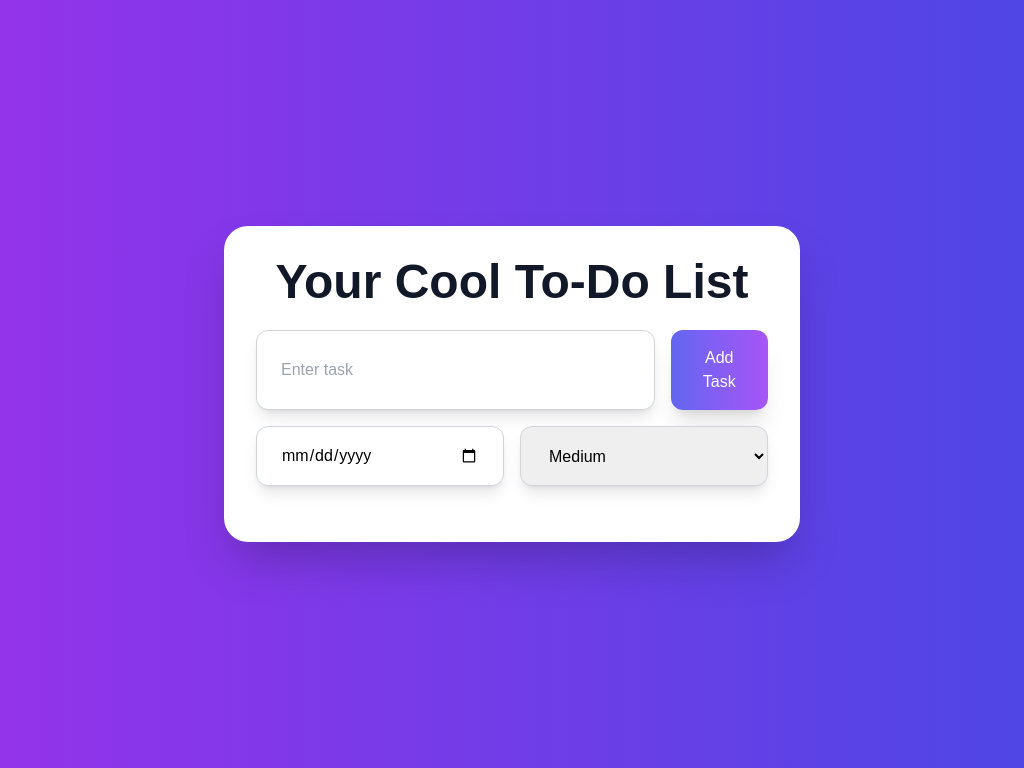
To-Do App › deletes a task
Type "Delete Me" into the field with placeholder "Enter task". click: (456, 370)
box: [256, 330, 655, 410]
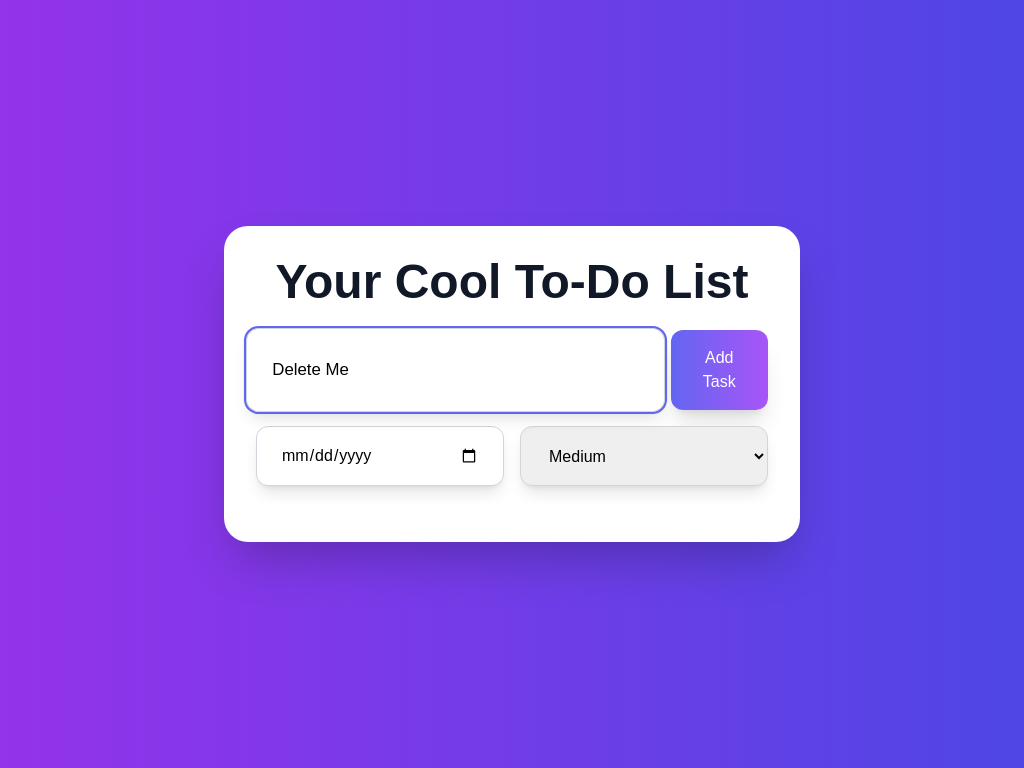
Click the button "Add Task". click: (720, 370)
box: [671, 330, 768, 410]
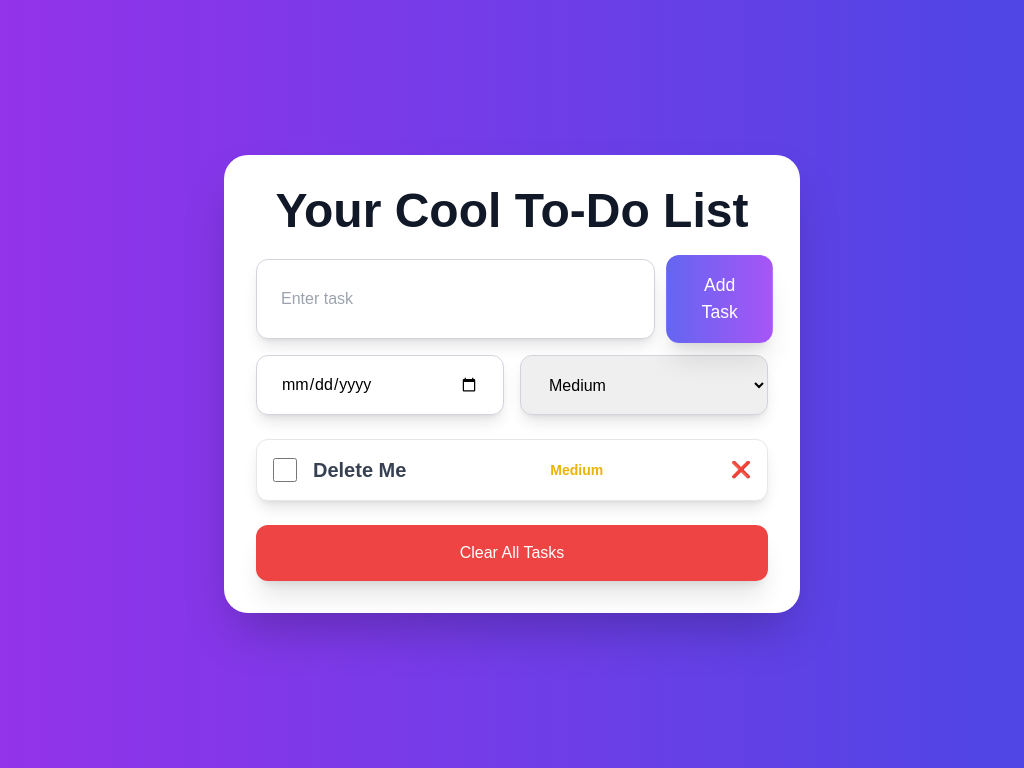
Click the button "❌". click: (741, 470)
box: [731, 458, 751, 482]
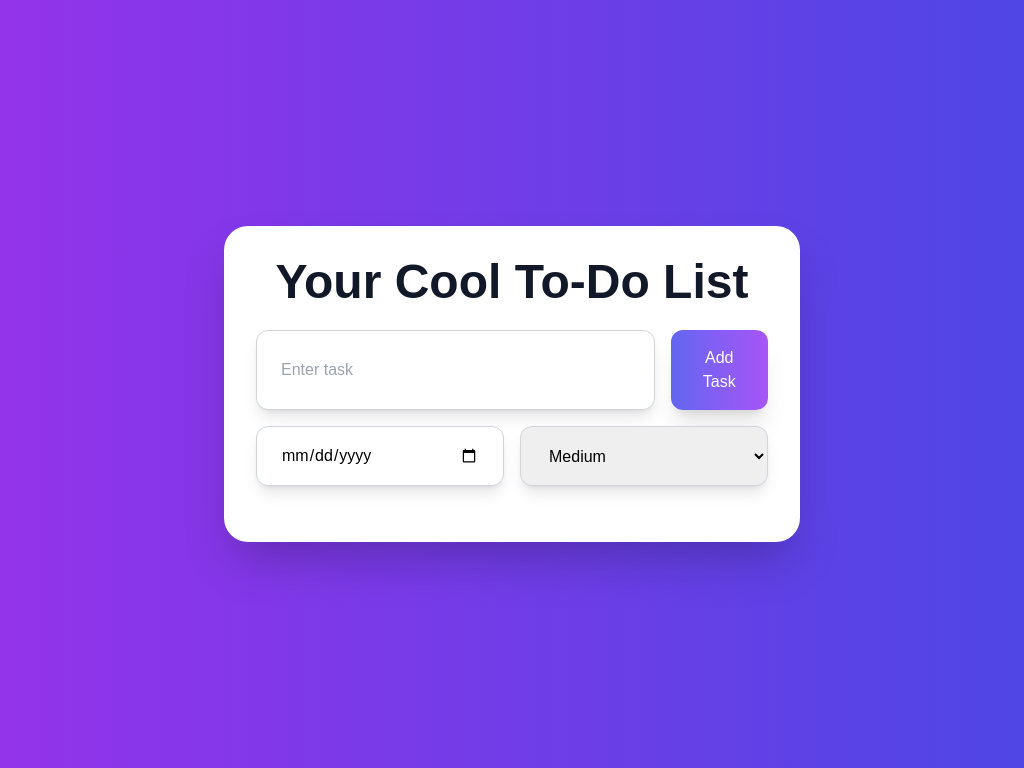
Now the text "Delete Me" is gone
